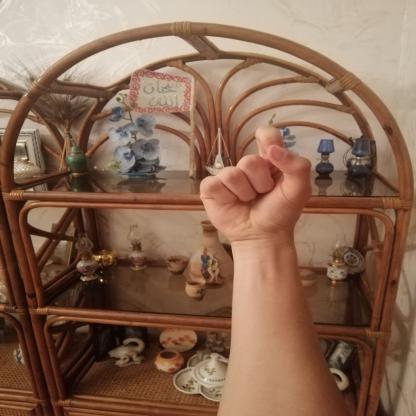FAA: (190, 116, 324, 251)
